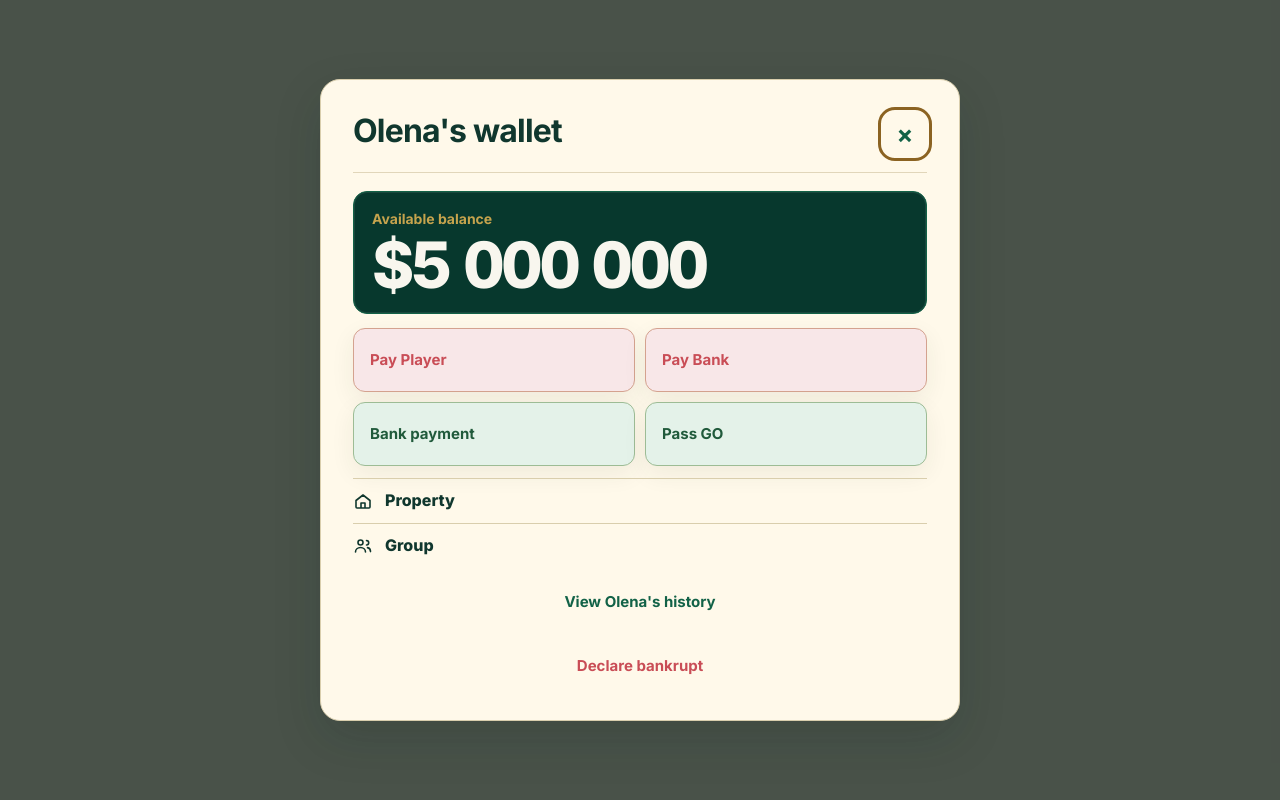
it: BankingDialog amount entry › takes a decimal in millions and shows the whole total in front
Click the button "Pay Bank". click: x=696, y=360
box: [645, 328, 927, 392]
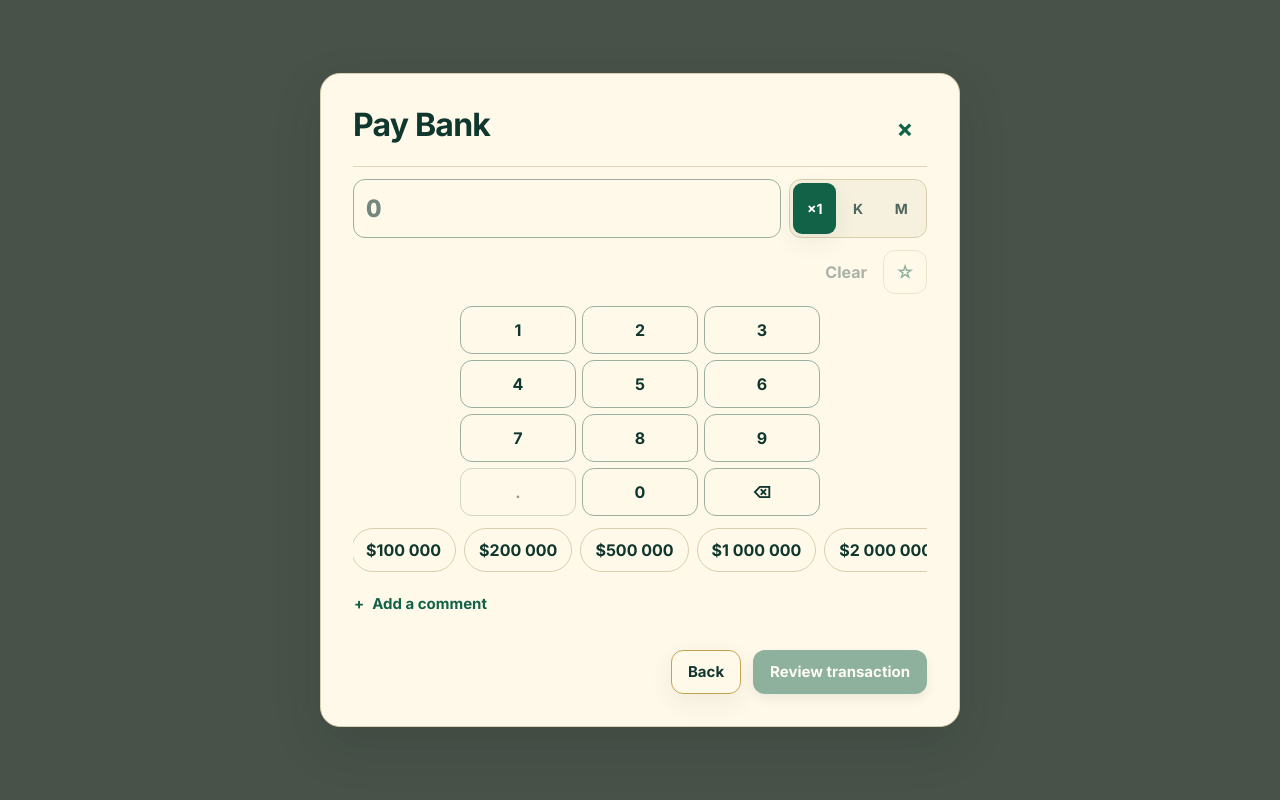
Now the button named "Decimal separator" is disabled, box [460, 468, 576, 516]
Click the button named "Millions". click: x=901, y=208
box: [880, 183, 923, 234]
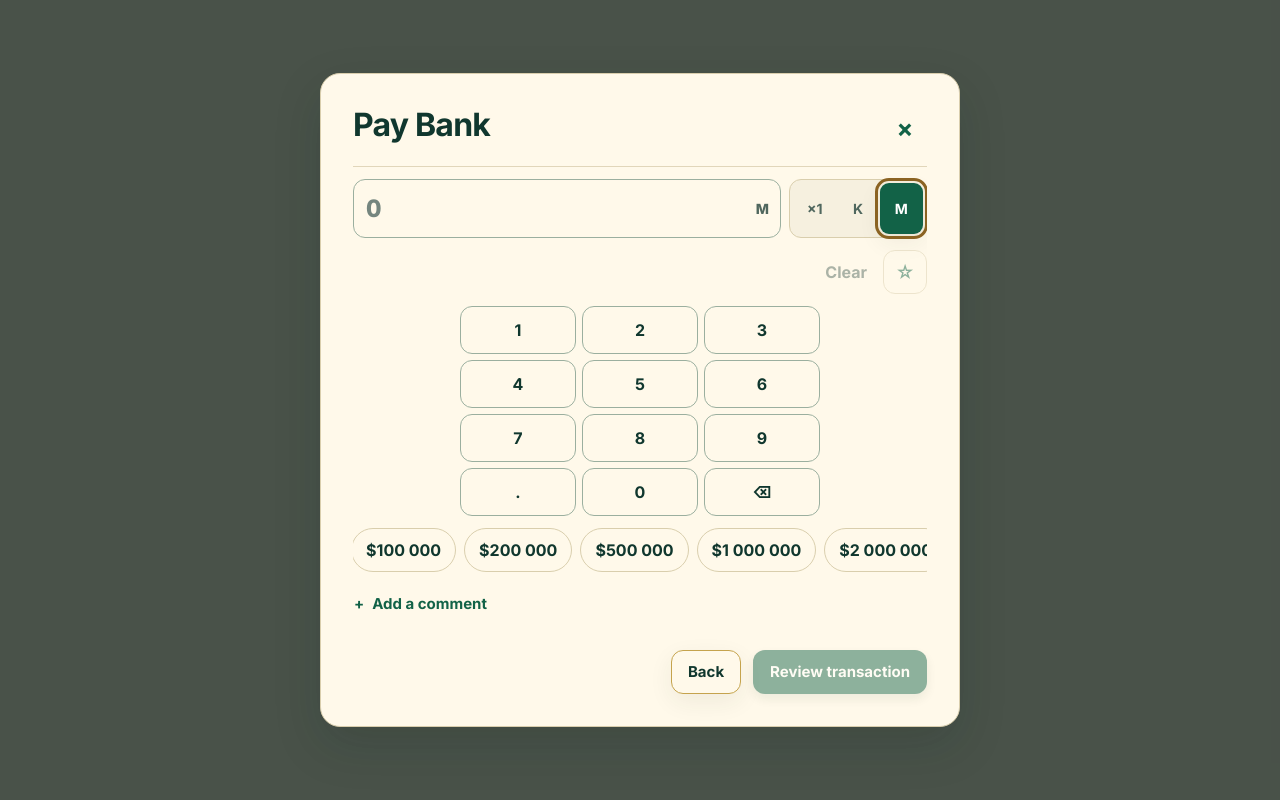
Click the button "3". click: x=762, y=330
box: [704, 306, 820, 354]
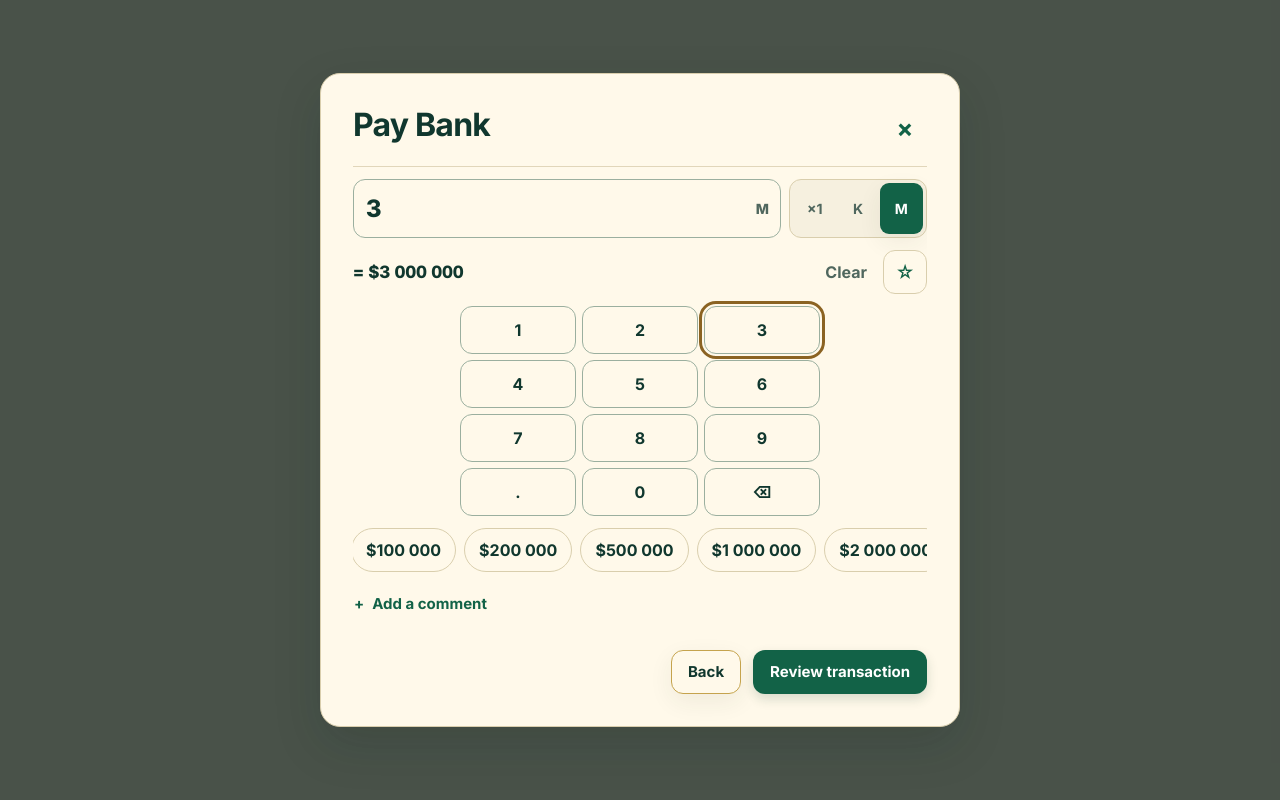
Click the button named "Decimal separator". click: x=518, y=492
box: [460, 468, 576, 516]
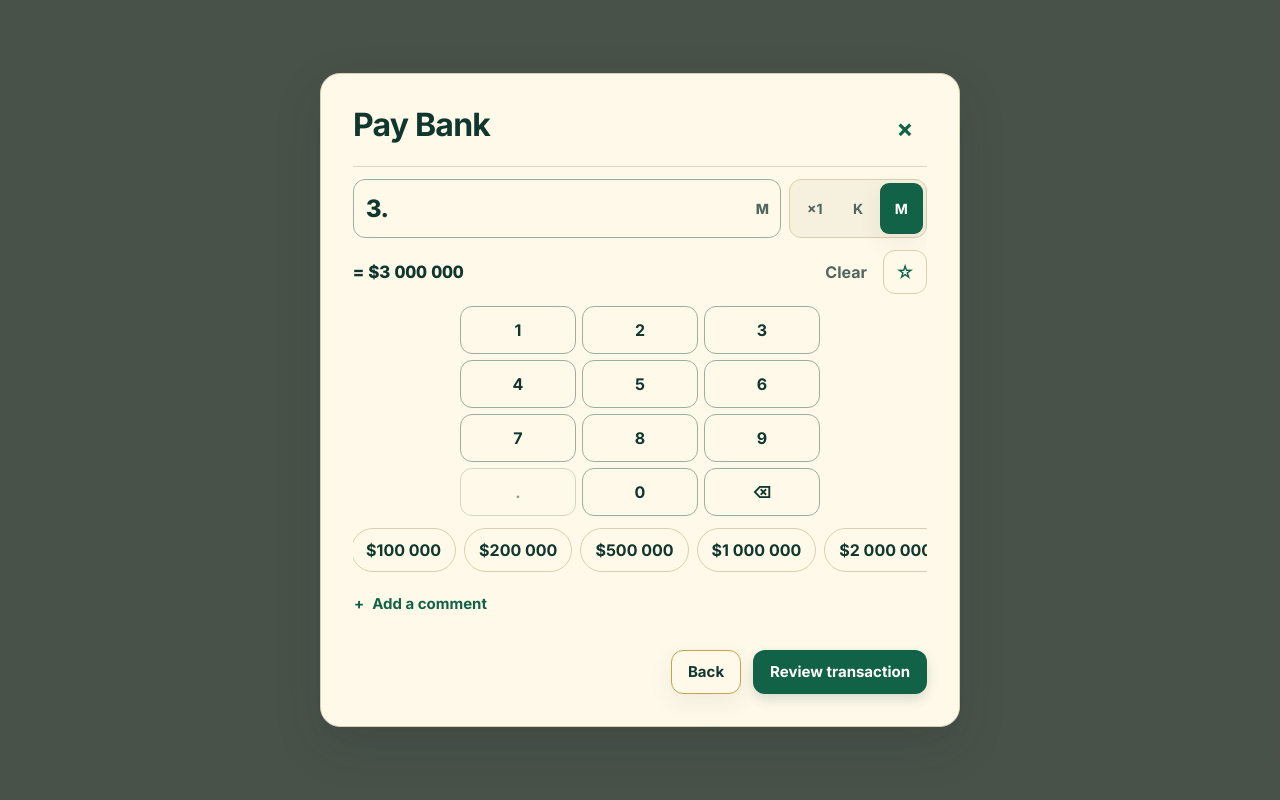
Click the button "2". click: x=640, y=330
box: [582, 306, 698, 354]
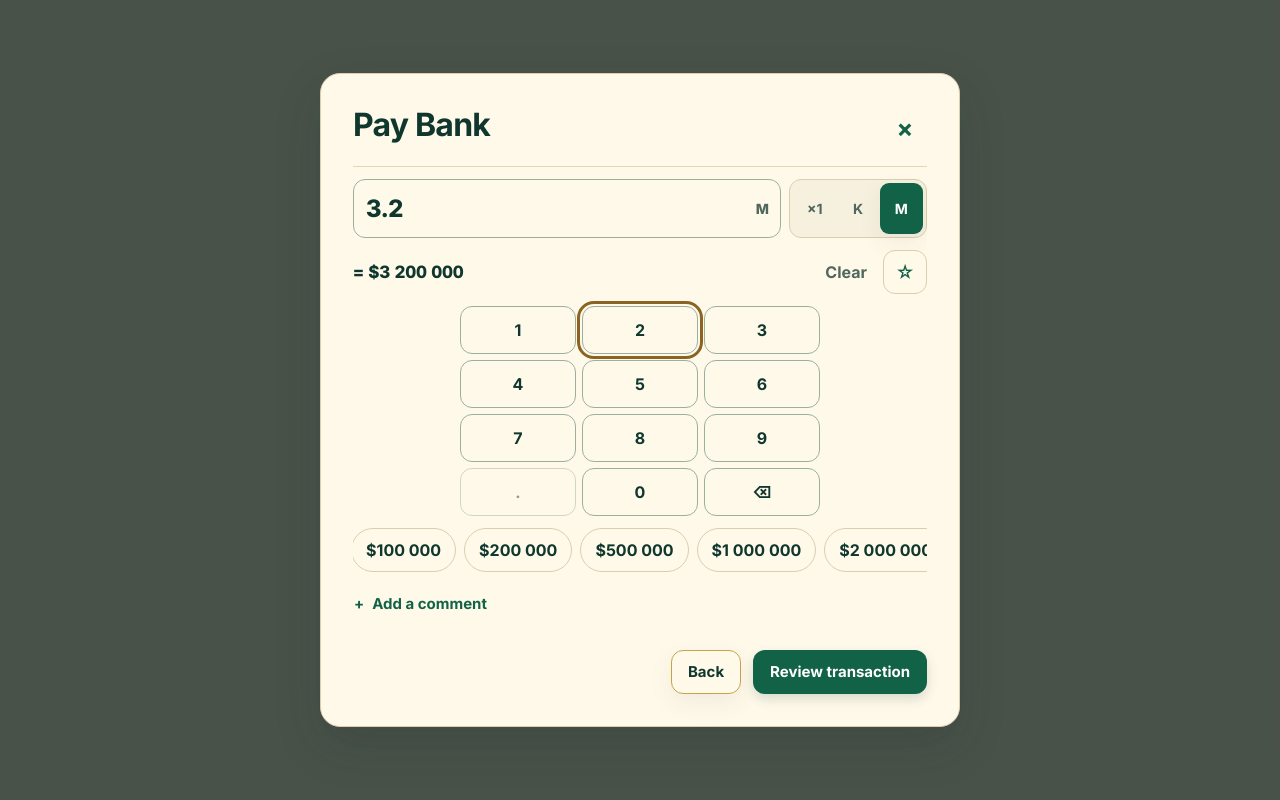
Now the button named "Decimal separator" is disabled, box [460, 468, 576, 516]
Now the field named "Amount" holds "3.2", box [353, 179, 781, 238]
Now the text "= $3 200 000" is shown, box [353, 259, 464, 285]
